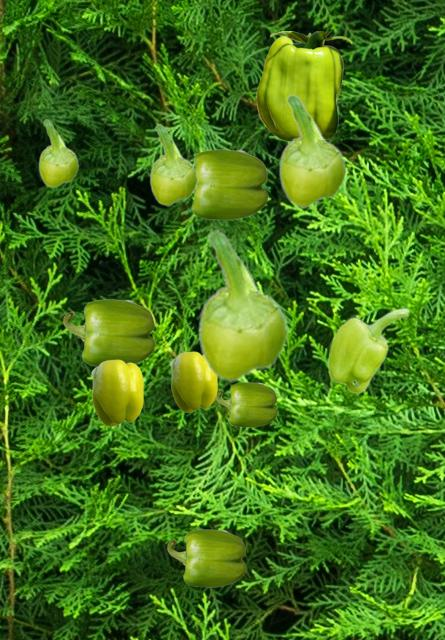bell_pepper: (197, 230, 288, 381), (256, 31, 351, 140), (278, 94, 346, 207), (327, 307, 409, 393), (63, 299, 154, 366), (191, 149, 267, 219), (167, 529, 245, 586), (149, 124, 197, 205), (91, 359, 142, 425), (170, 351, 216, 411), (38, 119, 78, 187), (216, 382, 276, 426)
